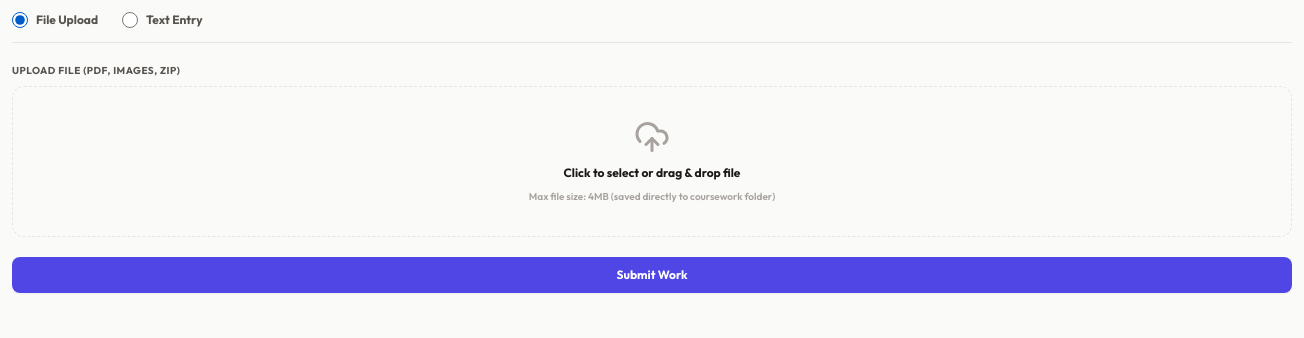
Test: SubmissionForm › switches to the text entry mode and shows the character counter
Click the radio button labelled "Text Entry" at x=130, y=20, box [122,12,138,28]
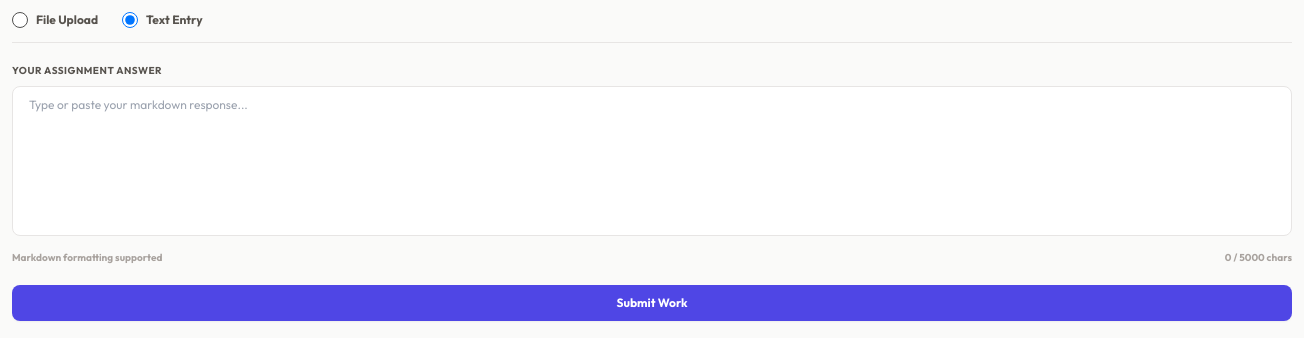
Type "hello" into the text box with placeholder "Type or paste your markdown response..." at x=652, y=161, box [12,86,1292,236]
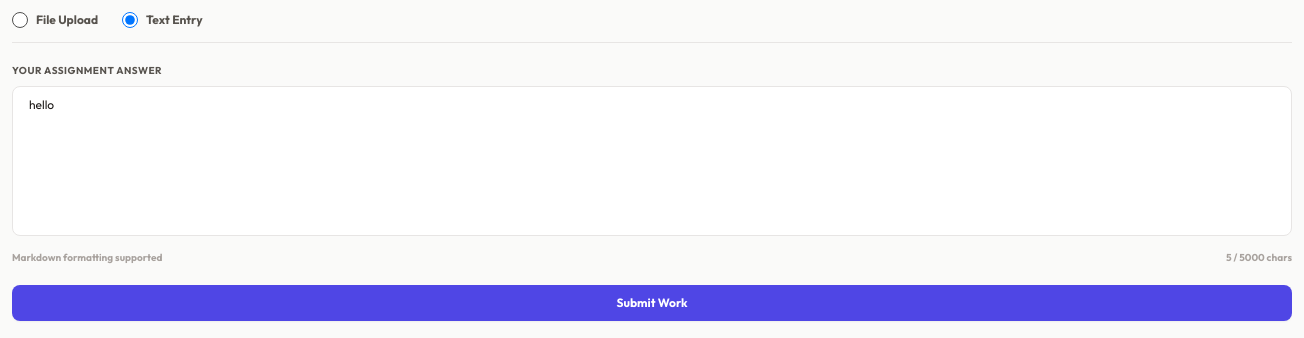
Result: the text "5 / 5000 chars" is shown at [1226,250,1292,265]
